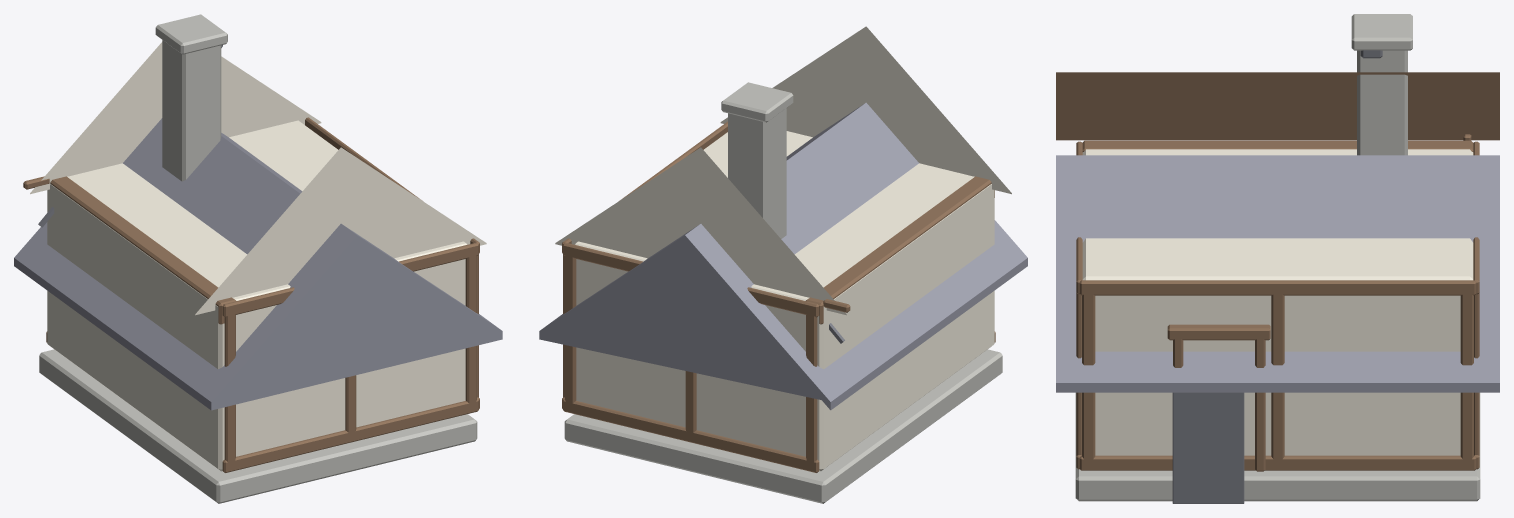
The model's file is town_smithy.glb.
The picture shows the model from 3 angles, left to right: view 1: azimuth 30°, elevation 25°; view 2: azimuth 150°, elevation 25°; view 3: azimuth 270°, elevation 25°; orthographic projection. The views are drawn at different scales.
Visible parts, largest first — view 1: world; view 2: world; view 3: world.
Boxes of the visible parts, left/top/right/bottom form: world: left=14, top=14, right=502, bottom=503; world: left=539, top=26, right=1027, bottom=503; world: left=1056, top=14, right=1499, bottom=503.
Bounding box in the file's own units: 1.76 × 1.96 × 2.
